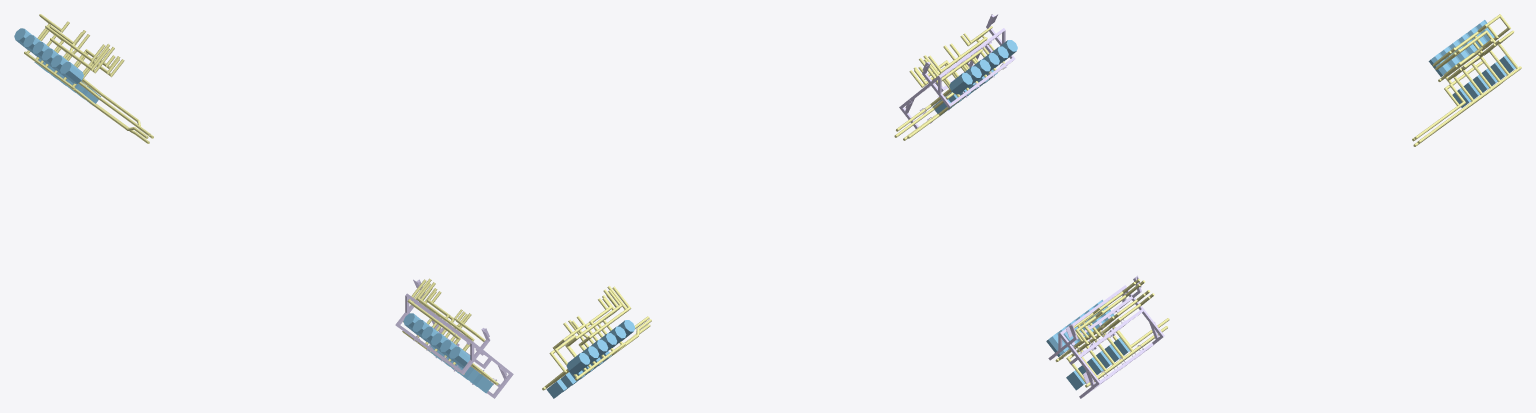
The model's file is Endcap-Calo-Services-cut2.glb.
3 renders of one model, left to right at view 1: azimuth 30°, elevation 25°; view 2: azimuth 150°, elevation 25°; view 3: azimuth 330°, elevation 25°, orthographic.
Visible parts, largest first — view 1: _000002AC086151C0_IndexedFaceSet, _000002AC30A909F0_IndexedFaceSet, _000002AC08615070_IndexedFaceSet; view 2: _000002AC086151C0_IndexedFaceSet, _000002AC30A909F0_IndexedFaceSet, _000002AC08615070_IndexedFaceSet; view 3: _000002AC086151C0_IndexedFaceSet, _000002AC30A909F0_IndexedFaceSet, _000002AC08615070_IndexedFaceSet.
Boxes of the visible parts, x1,y1,x2,y2 form: _000002AC086151C0_IndexedFaceSet: [24, 14, 498, 385]; _000002AC30A909F0_IndexedFaceSet: [14, 28, 493, 393]; _000002AC08615070_IndexedFaceSet: [395, 279, 513, 398]; _000002AC086151C0_IndexedFaceSet: [542, 26, 1004, 390]; _000002AC30A909F0_IndexedFaceSet: [546, 40, 1017, 398]; _000002AC08615070_IndexedFaceSet: [899, 14, 1015, 128]; _000002AC086151C0_IndexedFaceSet: [1055, 14, 1521, 387]; _000002AC30A909F0_IndexedFaceSet: [1046, 20, 1515, 390]; _000002AC08615070_IndexedFaceSet: [1048, 275, 1164, 398].
Bounding box in the file's own units: 0.9183 × 1.11 × 12.2.
